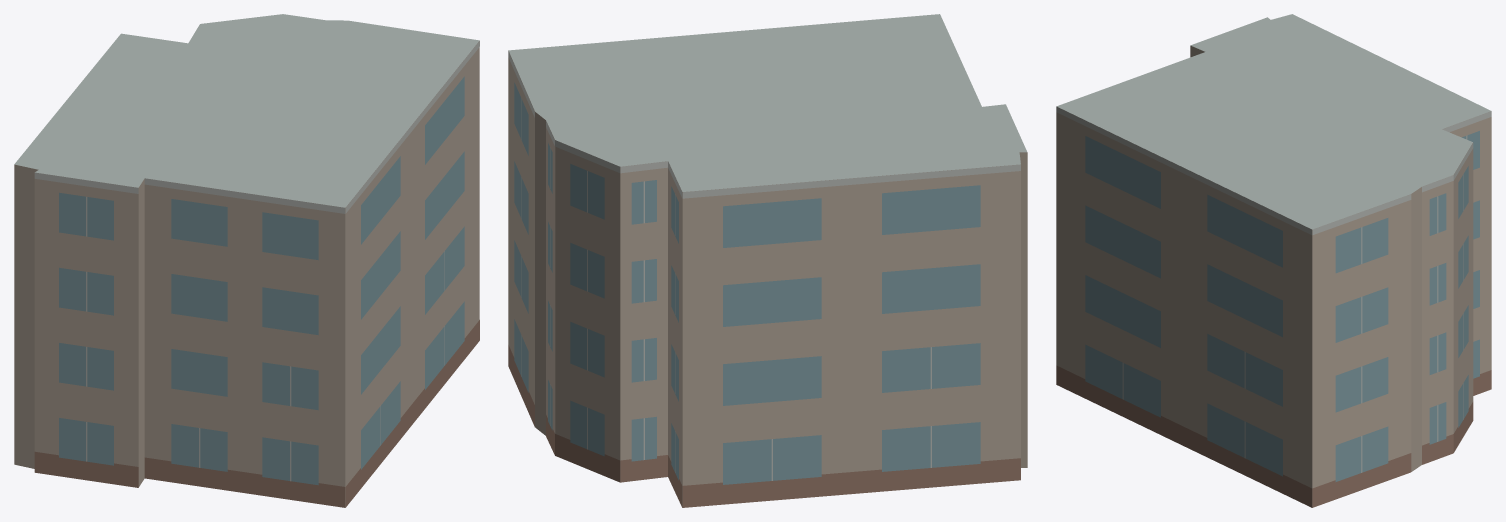
The model's file is survey-upis-32668171.glb.
3 views of the same model, side by side, from view 1: azimuth 30°, elevation 25°; view 2: azimuth 150°, elevation 25°; view 3: azimuth 270°, elevation 25° (orthographic). The views are drawn at different scales.
Parts seen in each view (by area): view 1: survey-upis-32668171.tmp; view 2: survey-upis-32668171.tmp; view 3: survey-upis-32668171.tmp.
Part boxes in pixels (<box>): survey-upis-32668171.tmp: <box>14,14,479,507</box>; survey-upis-32668171.tmp: <box>508,14,1027,507</box>; survey-upis-32668171.tmp: <box>1056,14,1491,507</box>.
Bounding box in the file's own units: 19.44 × 11.7 × 16.59.
